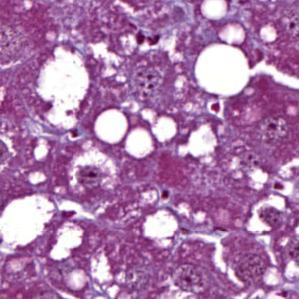steatosis: (195, 44, 249, 97), (93, 107, 129, 146)
